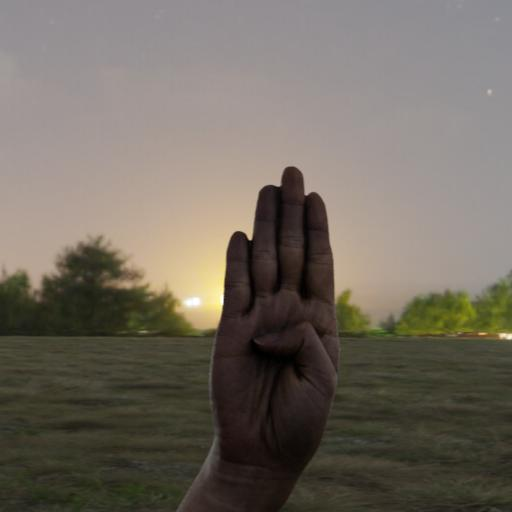B: (196, 126, 364, 490)
